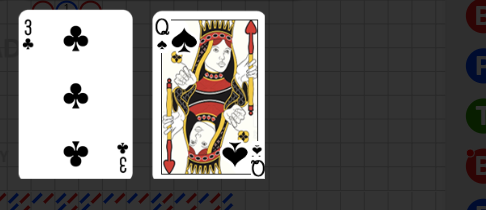3C: (22, 18, 36, 53)
9S: (250, 143, 265, 179)
